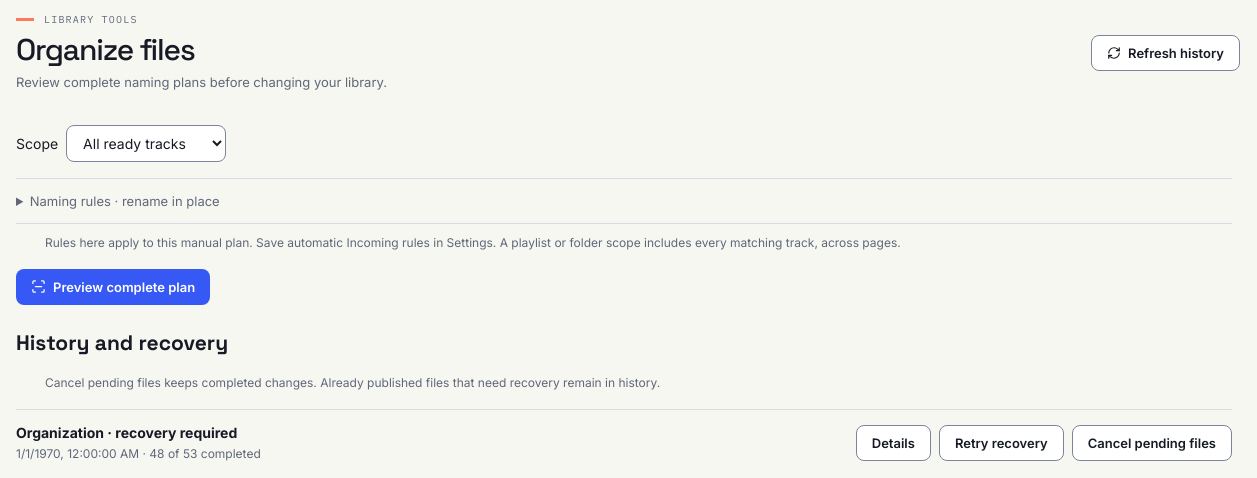
Test case: cancels restored pending files through the durable batch without undoing completed changes
Click the button "Cancel pending files" at (1152, 443), box [1072,425,1232,461]
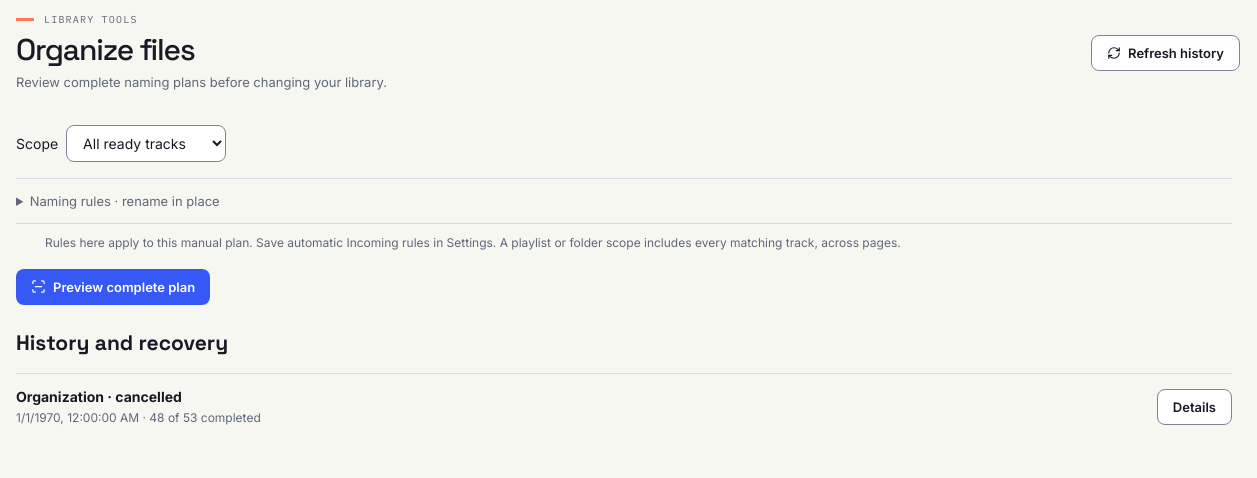
Expected: the text "Organization · cancelled" is shown, [16,388,182,405]
